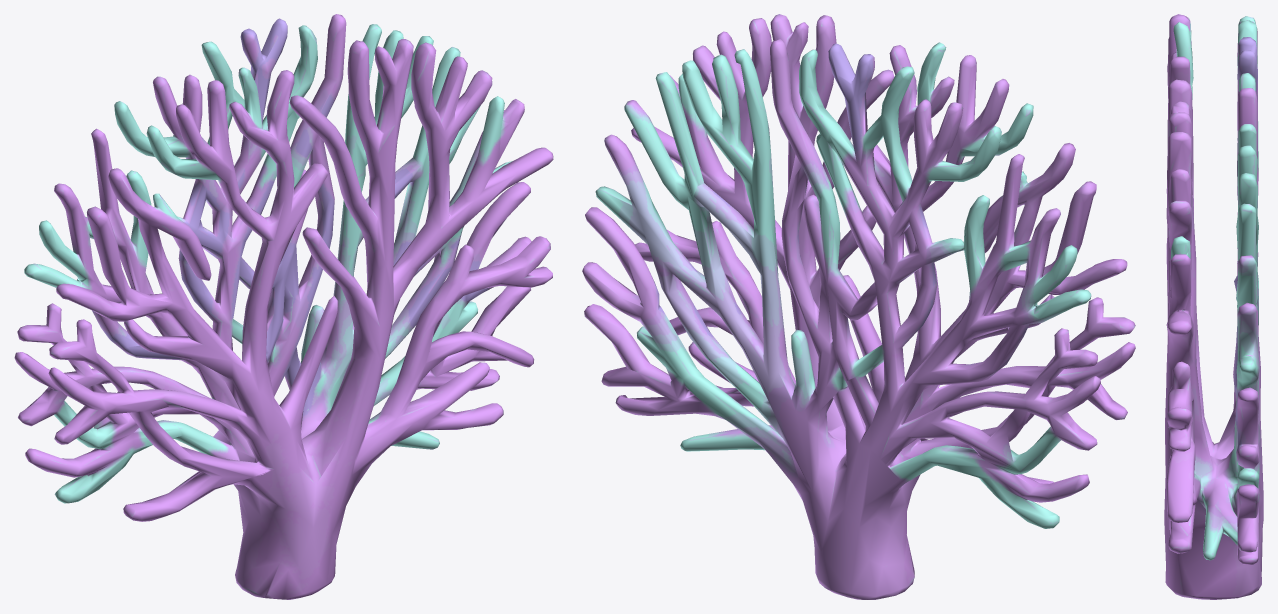
Rendered from coral4.glb.
3 views of the same model, side by side, from view 1: azimuth 30°, elevation 25°; view 2: azimuth 150°, elevation 25°; view 3: azimuth 270°, elevation 25° (orthographic).
Visible parts, largest first — view 1: Mesh_0; view 2: Mesh_0; view 3: Mesh_0.
Part boxes in pixels (x1,y1,x2,y2): Mesh_0: (14, 14, 553, 599); Mesh_0: (582, 14, 1135, 599); Mesh_0: (1164, 14, 1263, 599).
Size of the model in its own units: 1.87 by 1.9 by 0.3143.
Materials: 1 (1 with a texture image).
